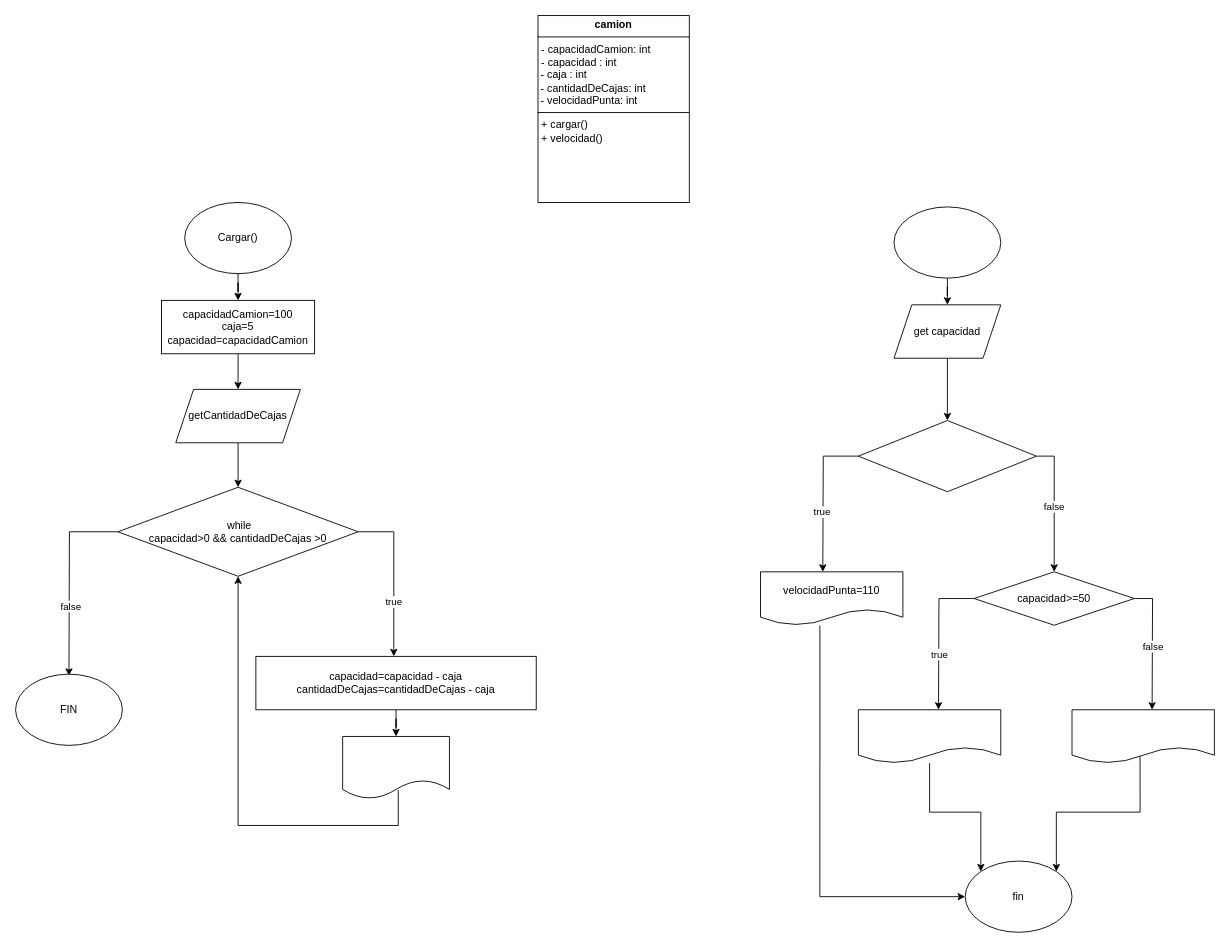
The diagram is 1230 pixels wide and 948 high, and some of its shapes have lost their labels. The shapes that lost their labels are listed below. From the top down, each one's centre as x and y in pixels, then its label:
At [947,242]: "velocidad()".
At [947,456]: "capacidad>=90".
At [929,736]: "velocidadPunta=80".
At [1142,736]: "velocidadPunta=60".
At [395,767]: "cantidadDeCajas capacidad".
